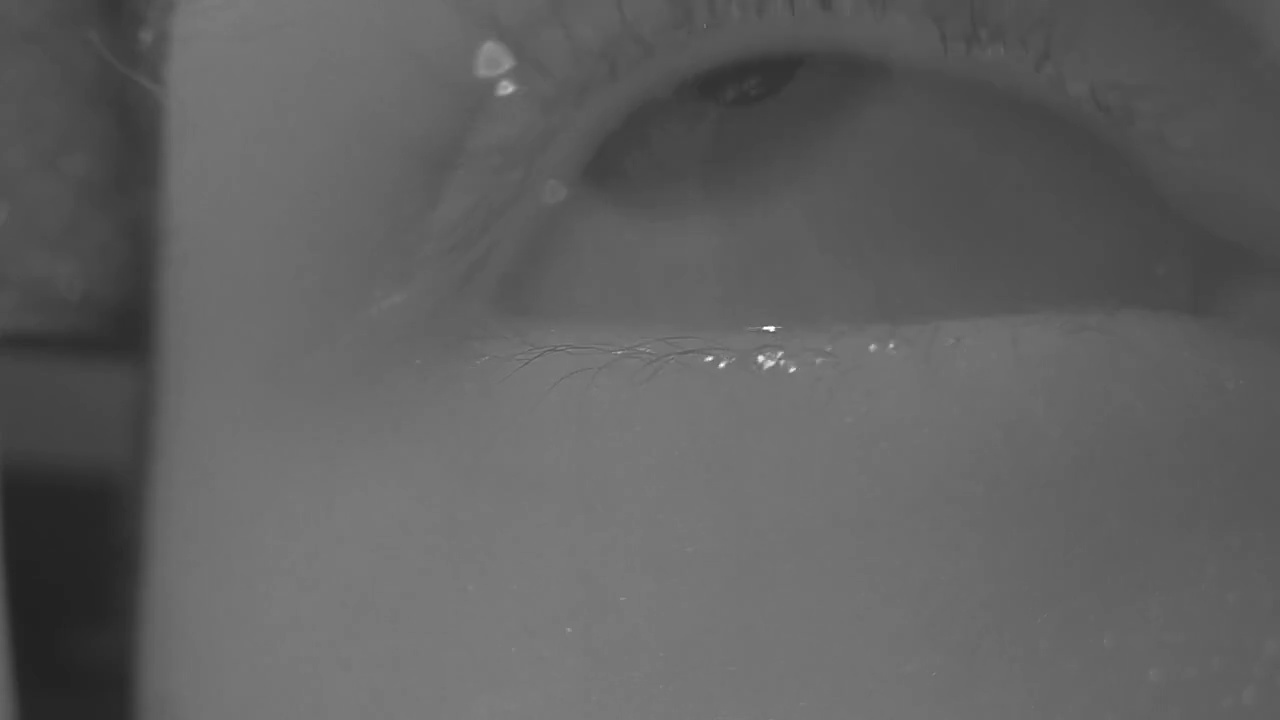pupil: (690, 55, 801, 105)
